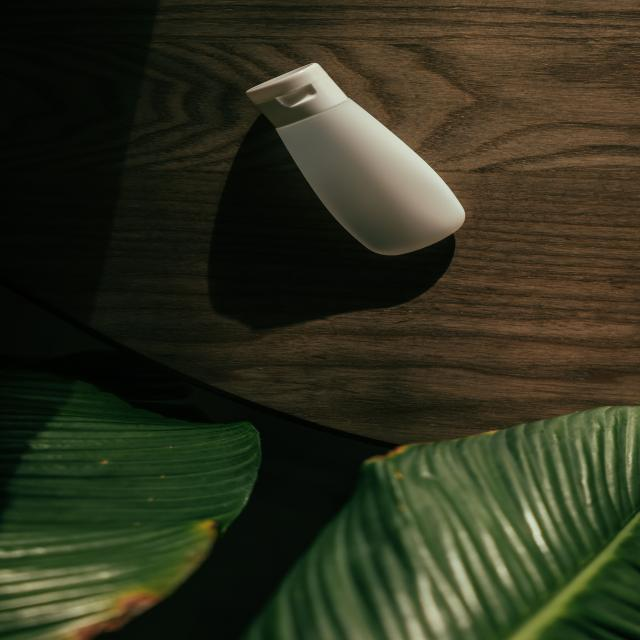Bottle: (247, 63, 464, 255)
